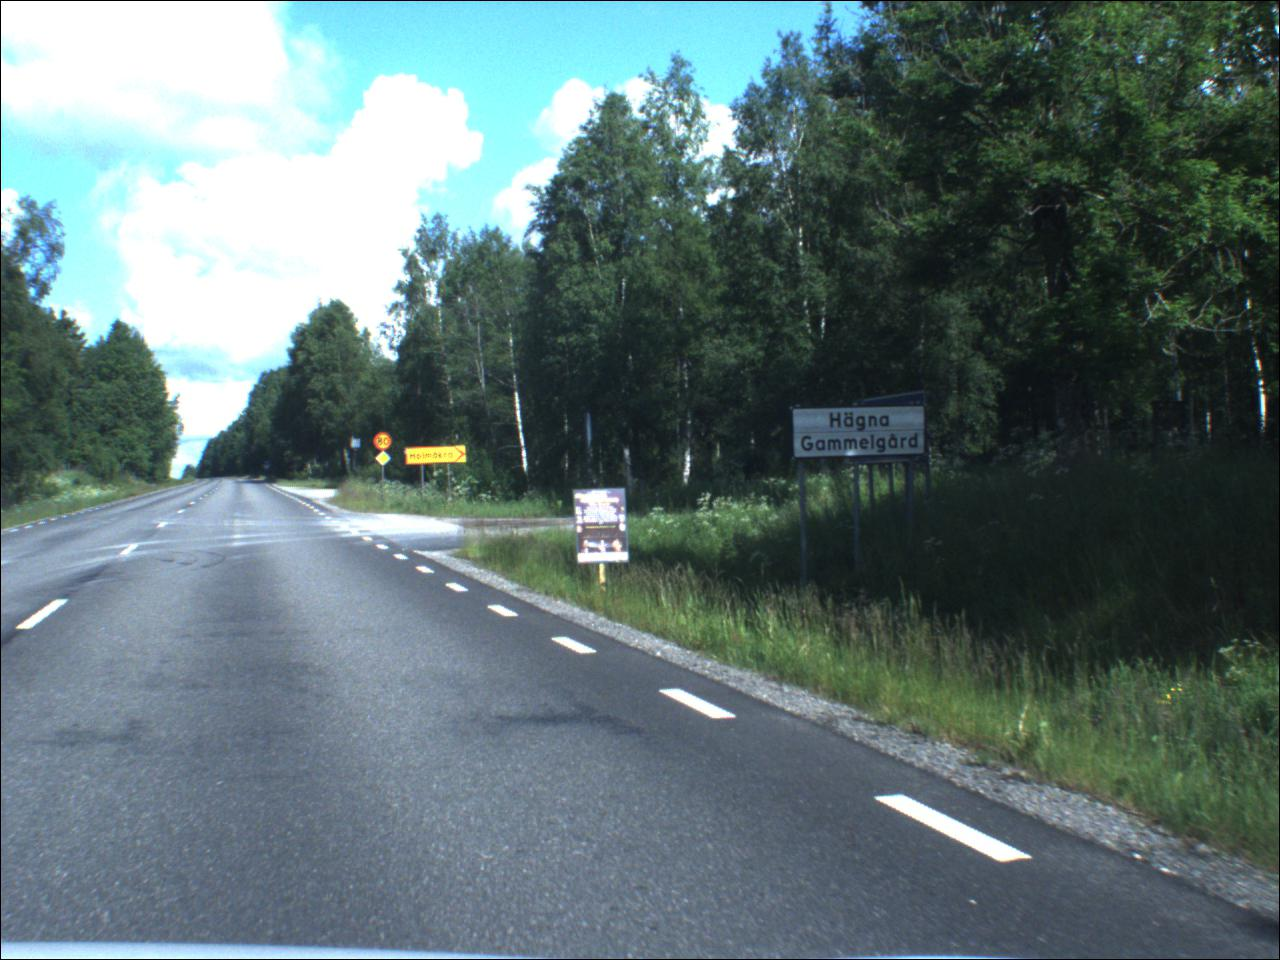80_SIGN: (375, 433, 396, 453)
PRIORITY_ROAD: (377, 454, 394, 470)
